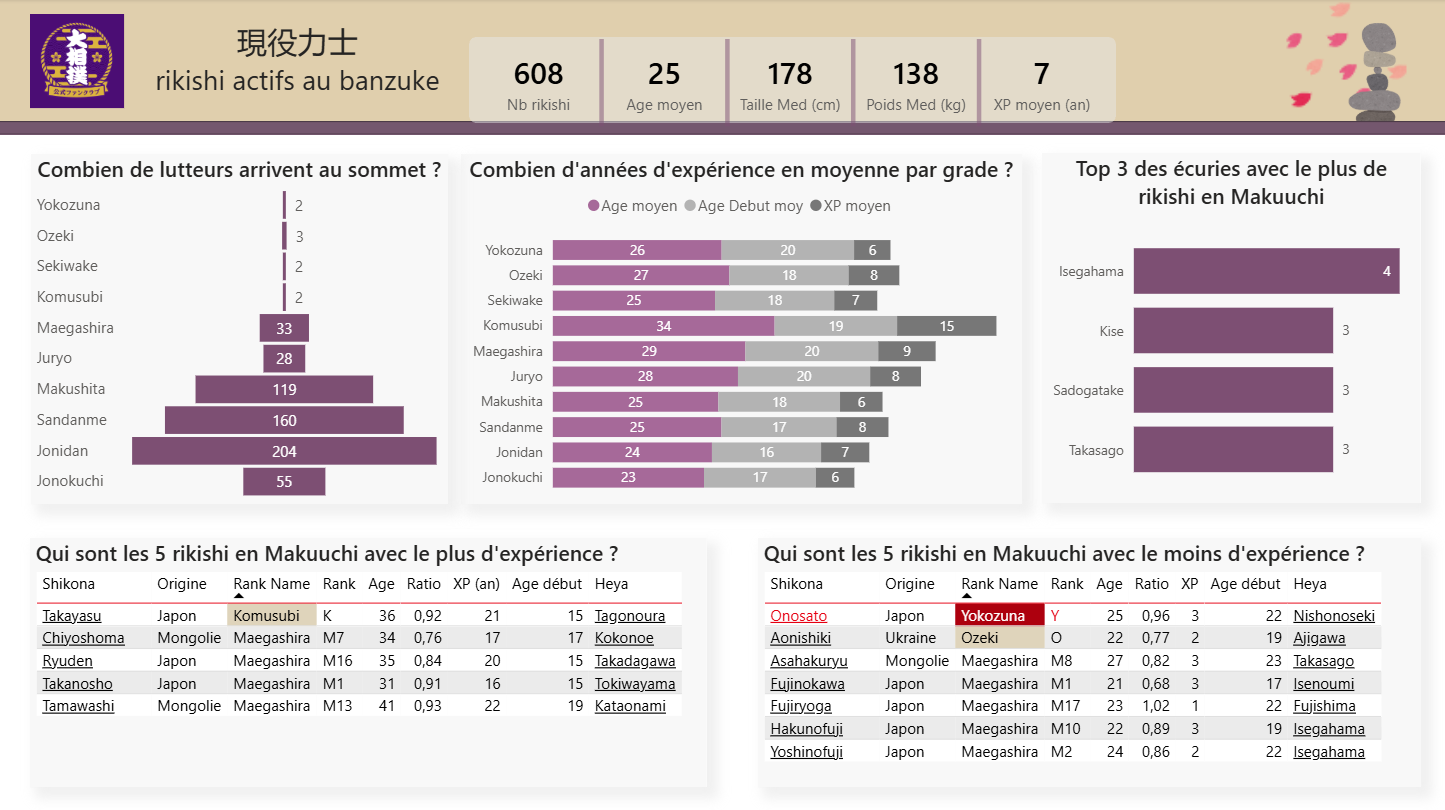

Layout of this report page (visuals, bound fields, positions):
{"tool":"powerbi","page":{"name":"Banzuke","canvas":[1280,720],"ordinal":0},"visuals":[{"type":"shape","box":[0,0,1280,109.4],"z":0,"group":"g1"},{"type":"image","box":[1096.1,0,183.4,108.9],"z":0,"group":"g2"},{"type":"image","box":[28.6,12.9,82.9,82.9],"z":0},{"type":"shape","box":[0,107.6,1280,12.1],"z":0,"group":"g3"},{"type":"group","id":"g1","title":"Groupe 1","box":[0,0,1280,108.9],"z":1000},{"type":"image","box":[28.6,13,82.9,83.7],"z":1000,"group":"g1"},{"type":"image","box":[1169.7,20.2,95.7,88.7],"z":1000,"group":"g2"},{"type":"group","id":"g2","title":"logoUp","box":[1096.1,0,183.9,108.5],"z":2000},{"type":"group","id":"g3","title":"séparationDB","box":[0,107.6,1280,12.1],"z":4000},{"type":"shape","box":[415.5,33.5,570.8,75.9],"z":5000},{"type":"cardVisual","fields":{"Data":["_Mesures.Nb rikishi","_Mesures.Age moyen","_Mesures.Taille Med","_Mesures.Poids Med","_Mesures.XP moyen"]},"box":[408.4,20.3,585.7,107.6],"z":6000},{"type":"textbox","box":[111.2,13.2,306.1,82.9],"z":7000},{"type":"barChart","title":"Combien d''années d''expérience en moyenne par grade ?","fields":{"Category":["Dim_Rank.Rank Name","Dim_Rank.DivisionName","Dim_Rank.SpecialRankName"],"Y":["_Mesures.Age moyen","_Mesures.Age Debut","_Mesures.XP moyen"]},"box":[408.1,136.4,494.9,308.9],"z":8000},{"type":"funnel","title":"Combien de lutteurs arrivent au sommet ?","fields":{"Category":["Dim_Rank.Rank Name","Dim_Rank.DivisionName","Dim_Rank.SpecialRankName"],"Y":["_Mesures.Nb rikishi"]},"box":[28.9,136.4,367.8,308.9],"z":9000},{"type":"tableEx","title":"Qui sont les 5 rikishi en Makuuchi avec le moins d''expérience ?","fields":{"Values":["Fact_Rikishi.shikonaEn","Dim_Region.pays","Dim_Rank.Rank Name","Dim_Rank.Rank","_Mesures.Age moyen","_Mesures.ratio","_Mesures.XP moyen","_Mesures.Age Debut","Dim_Heya.Heya"]},"box":[670.3,475.8,584.7,219.6],"z":10000},{"type":"tableEx","title":"Qui sont les 5 rikishi en Makuuchi avec le plus d''expérience ?","fields":{"Values":["Fact_Rikishi.shikonaEn","Dim_Region.pays","Dim_Rank.Rank Name","Dim_Rank.Rank","_Mesures.Age moyen","_Mesures.ratio","_Mesures.XP moyen","_Mesures.Age Debut","Dim_Heya.Heya"]},"box":[28.6,475.8,597.2,219.6],"z":11000},{"type":"barChart","title":"Top 3 des écuries avec le plus de rikishi en Makuuchi","fields":{"Category":["Dim_Heya.Heya"],"Y":["_Mesures.Nb rikishi"]},"box":[921,136.3,334.2,309.3],"z":12000}]}

Visuals, with their boxes in screenshot pixels (x1, y1, x2, y2), scaled from the page's 1280x720 canvas onto the 1445x810 screenshot:
shape: Rect(0, 0, 1444, 123)
image: Rect(1237, 0, 1444, 123)
image: Rect(32, 15, 126, 108)
shape: Rect(0, 121, 1444, 135)
"Groupe 1" group: Rect(0, 0, 1444, 123)
image: Rect(32, 15, 126, 109)
image: Rect(1320, 23, 1429, 123)
"logoUp" group: Rect(1237, 0, 1444, 122)
"séparationDB" group: Rect(0, 121, 1444, 135)
shape: Rect(469, 38, 1113, 123)
cardVisual - _Mesures.Nb rikishi x _Mesures.Age moyen: Rect(461, 23, 1122, 144)
textbox: Rect(126, 15, 471, 108)
"Combien d''années d''expérience en moyenne par grade ?" barChart: Rect(461, 153, 1019, 501)
"Combien de lutteurs arrivent au sommet ?" funnel: Rect(33, 153, 448, 501)
"Qui sont les 5 rikishi en Makuuchi avec le moins d''expérience ?" tableEx: Rect(757, 535, 1417, 782)
"Qui sont les 5 rikishi en Makuuchi avec le plus d''expérience ?" tableEx: Rect(32, 535, 706, 782)
"Top 3 des écuries avec le plus de rikishi en Makuuchi" barChart: Rect(1040, 153, 1417, 501)
